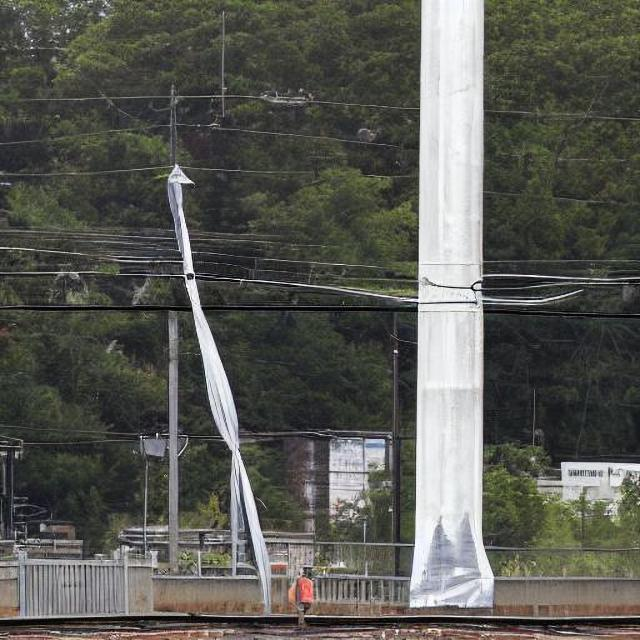floating object: (172, 158, 266, 569)
